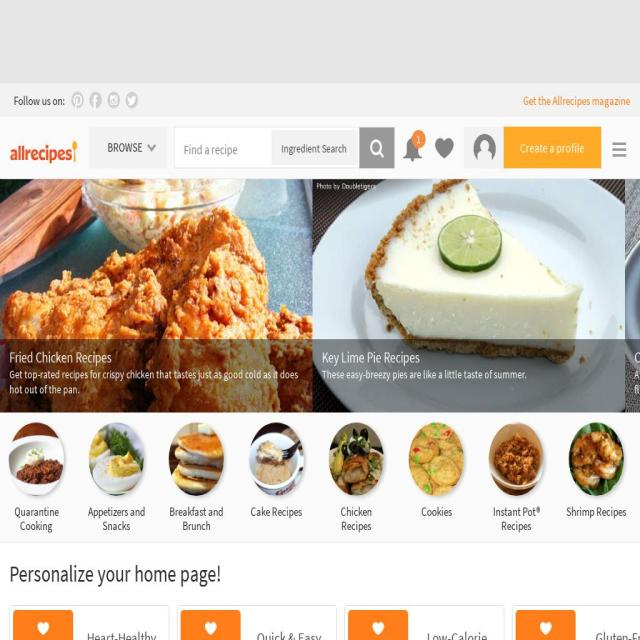button: (5, 422, 67, 536), (85, 422, 147, 536), (165, 422, 227, 536), (325, 422, 387, 536), (485, 422, 547, 536), (245, 422, 307, 522), (405, 422, 467, 522), (565, 422, 627, 522), (0, 118, 88, 185), (466, 127, 601, 168), (625, 179, 640, 413), (89, 127, 167, 168), (523, 92, 630, 108), (359, 128, 394, 168), (70, 92, 102, 133), (108, 92, 140, 133), (126, 92, 158, 133), (397, 118, 427, 160), (90, 92, 120, 133), (602, 118, 632, 136), (429, 143, 459, 160)
field: (174, 127, 325, 166)
heading: (10, 558, 222, 588), (9, 348, 303, 367), (322, 348, 616, 367), (87, 628, 156, 640), (257, 628, 321, 640), (426, 628, 487, 640), (595, 628, 640, 640), (634, 348, 640, 367)
image: (313, 179, 625, 413), (0, 179, 312, 412), (8, 422, 64, 496), (88, 422, 144, 496), (168, 422, 224, 496), (248, 422, 304, 496), (328, 422, 384, 496), (408, 422, 464, 496), (488, 422, 544, 496), (568, 422, 624, 496), (625, 179, 640, 413), (183, 610, 238, 640), (518, 610, 573, 640), (16, 610, 70, 640), (351, 610, 405, 640), (10, 140, 78, 163), (400, 132, 429, 172), (109, 94, 139, 132), (431, 130, 460, 169), (366, 134, 395, 172), (470, 128, 498, 167), (72, 92, 90, 121), (126, 93, 145, 115), (91, 94, 104, 122), (612, 148, 626, 151), (612, 154, 626, 157), (612, 143, 626, 145)
link: (9, 366, 303, 396), (322, 366, 526, 382), (634, 366, 640, 396)
text: (503, 127, 601, 168), (270, 130, 358, 165), (6, 496, 66, 536), (86, 496, 146, 536), (166, 496, 226, 536), (326, 496, 386, 536), (486, 496, 546, 536), (246, 496, 306, 522), (406, 496, 466, 522), (566, 496, 626, 522), (13, 92, 65, 108), (108, 139, 142, 155), (411, 130, 426, 148)
